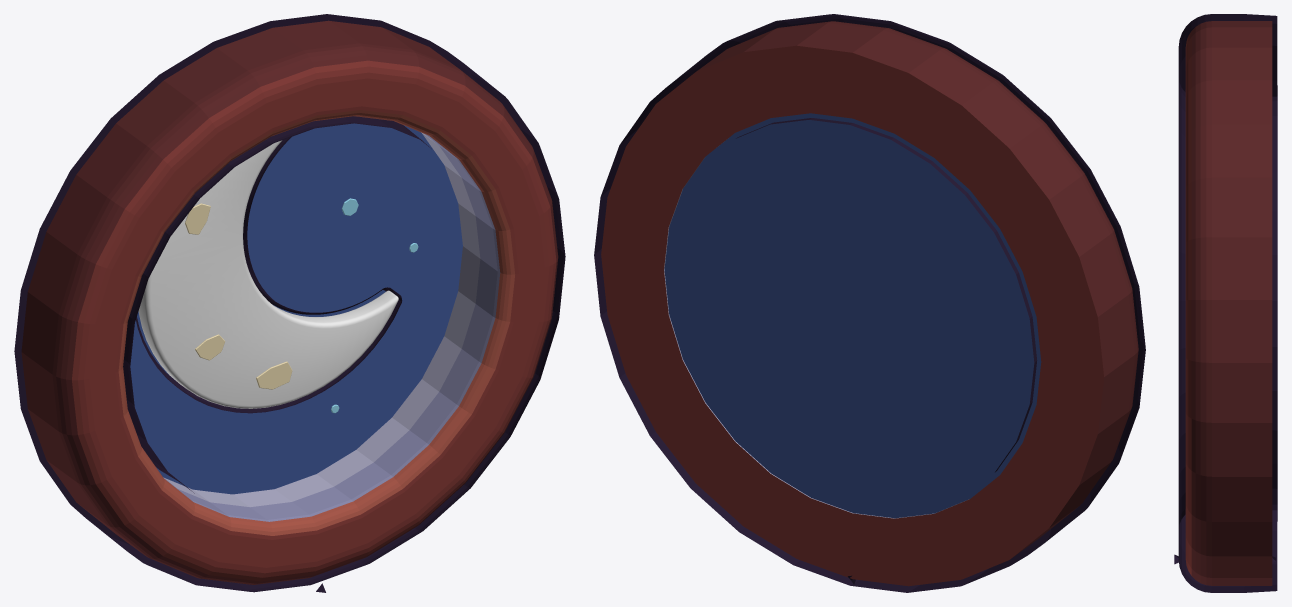
File: Window.glb
3 renders of one model, left to right at view 1: azimuth 30°, elevation 25°; view 2: azimuth 150°, elevation 25°; view 3: azimuth 270°, elevation 25°, orthographic. The views are drawn at different scales.
Visible parts, largest first — view 1: Window, MoonGlow, Window_Outline; view 2: Window, Window_Outline; view 3: Window, Window_Outline.
Part boxes in pixels (x1,y1,x2,y2): Window: (21,20,558,584); MoonGlow: (138,140,398,408); Window_Outline: (14,14,565,592); Window: (601,21,1138,586); Window_Outline: (594,14,1145,592); Window: (1185,21,1272,585); Window_Outline: (1178,14,1277,592).
Bounding box in the file's own units: 6.15 × 6.15 × 1.09.
Materials: 1 (1 with a texture image).
